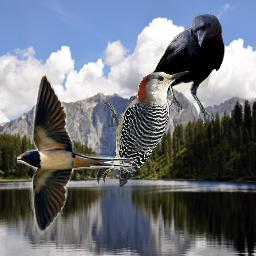Crow: (143, 14, 225, 126)
Swallow: (17, 73, 137, 235)
Woodpecker: (97, 70, 190, 187)
